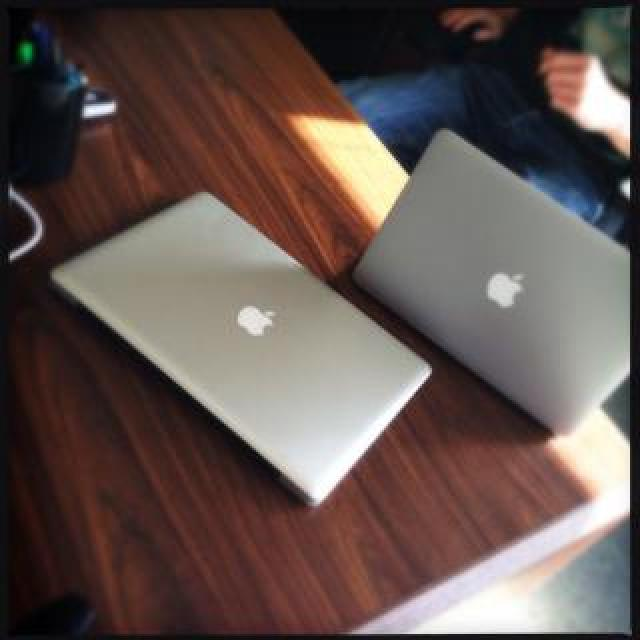laptop_computer: (70, 189, 381, 515), (360, 109, 640, 429)
